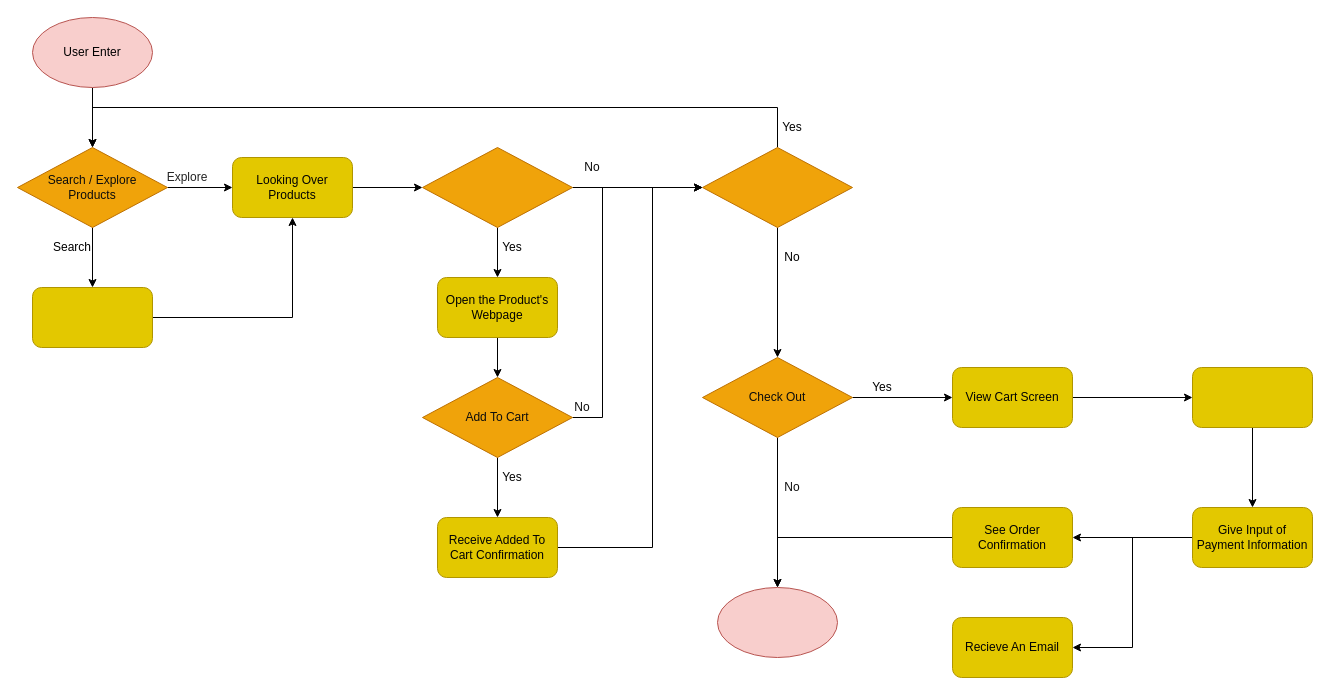
Some shapes in this 1330 by 695 pixel diagram are drawn without their labels. The centre of each missing label's shape, as x and y in pixels:
Continue Shopping: [777,187]
Provide Search Input: [92,317]
User Leave: [777,622]
View A Specific Product: [497,187]
View Payment Screen: [1252,397]
